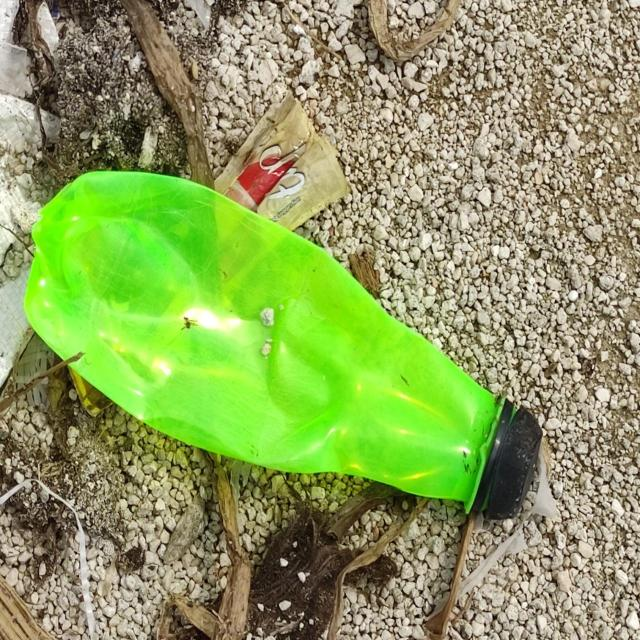litter: (22, 168, 544, 523), (214, 87, 354, 231)
